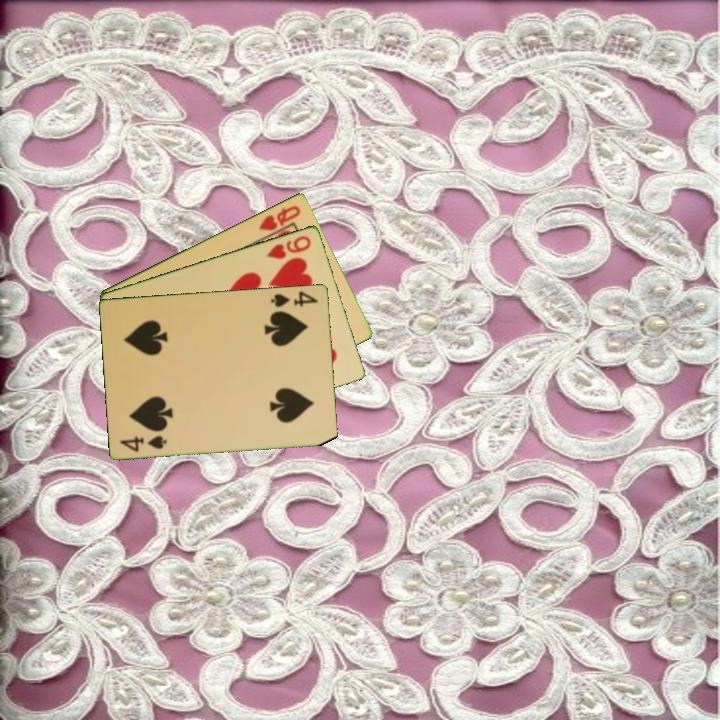4s: (116, 431, 170, 454), (268, 287, 321, 310)
9h: (263, 232, 314, 262)
Qh: (255, 201, 304, 233)
